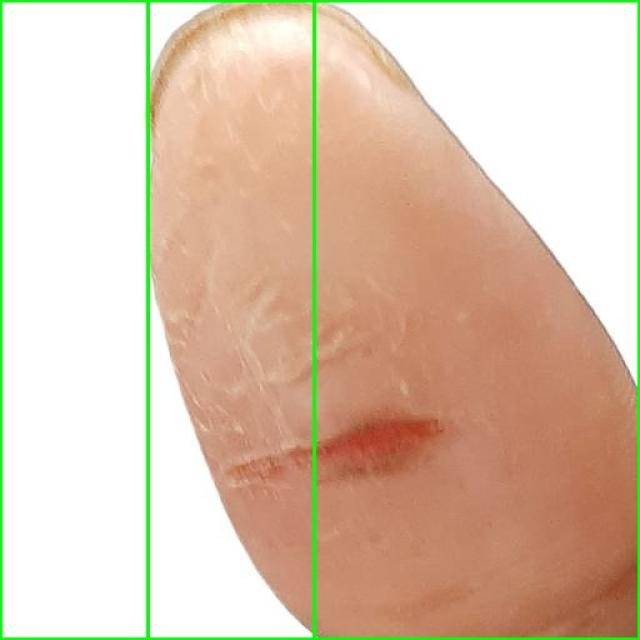Contact Dermatitis: (148, 0, 639, 639), (0, 0, 314, 639)
